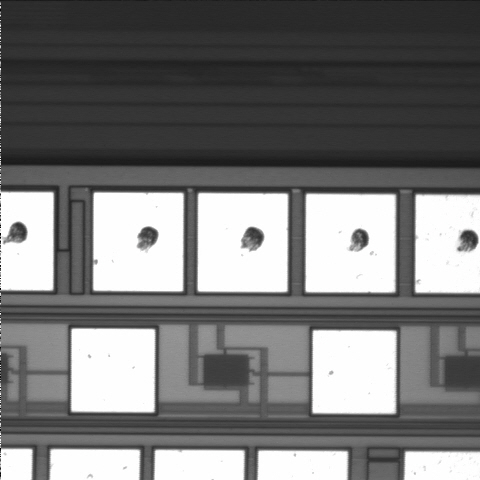pad: (198, 193, 288, 292), (93, 193, 183, 291), (306, 194, 395, 292), (71, 329, 155, 412), (313, 330, 396, 414)
